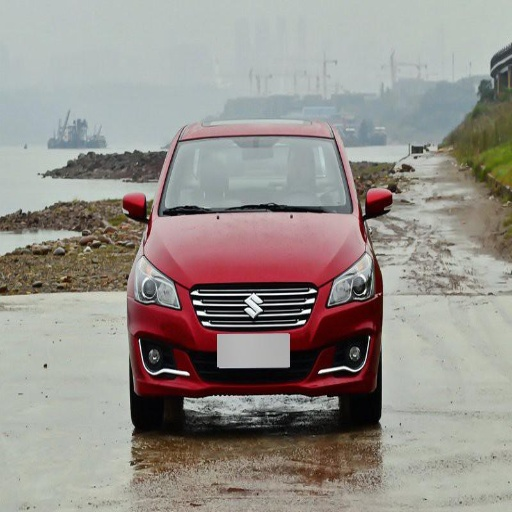front_bumper: (129, 281, 381, 391)
front_right_light: (131, 258, 181, 309)
hood: (145, 214, 366, 285)
